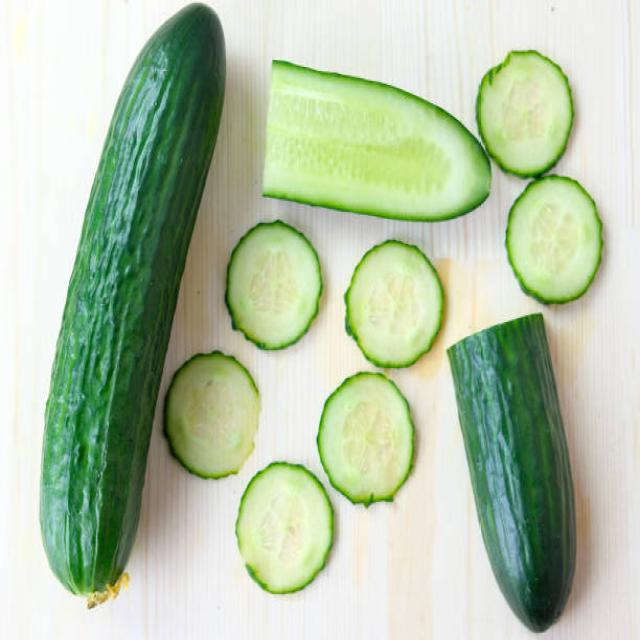cucumber: (41, 0, 226, 594), (444, 313, 576, 634), (261, 59, 492, 226)
